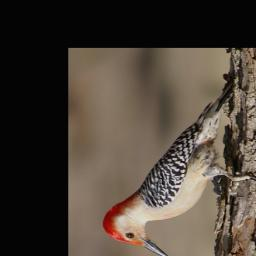Woodpecker: (98, 80, 256, 256)
